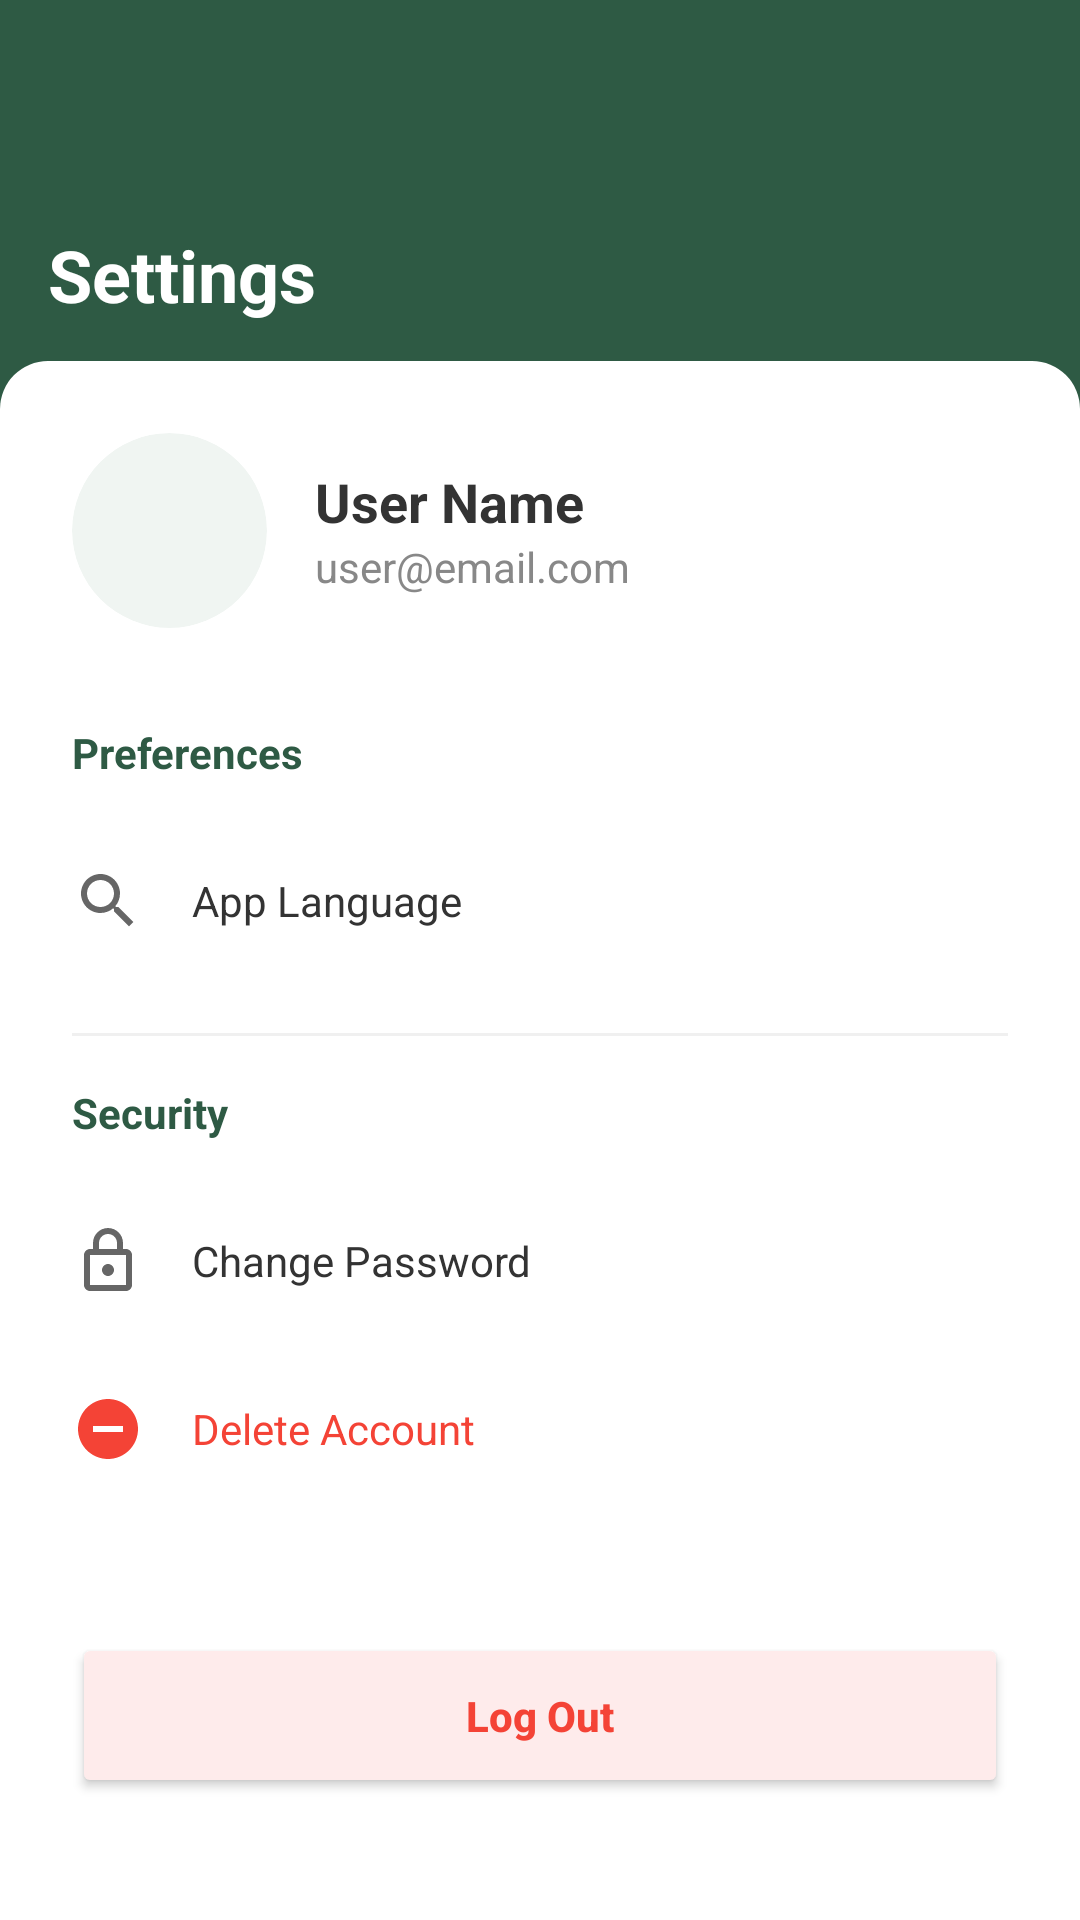

Icon click points for this 1080×1920 phone screenshot, format point (x, y):
lock: point (108, 1259)
remove circle: point (108, 1429)
search: point (107, 900)
